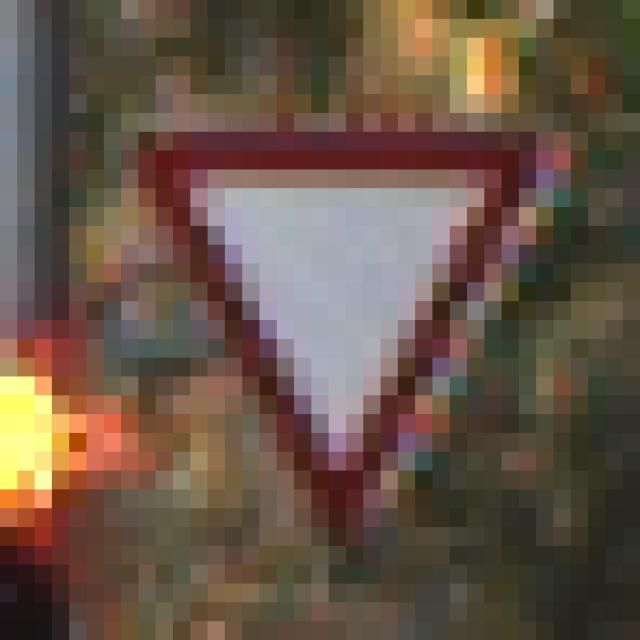Give Way: (105, 95, 554, 547)
